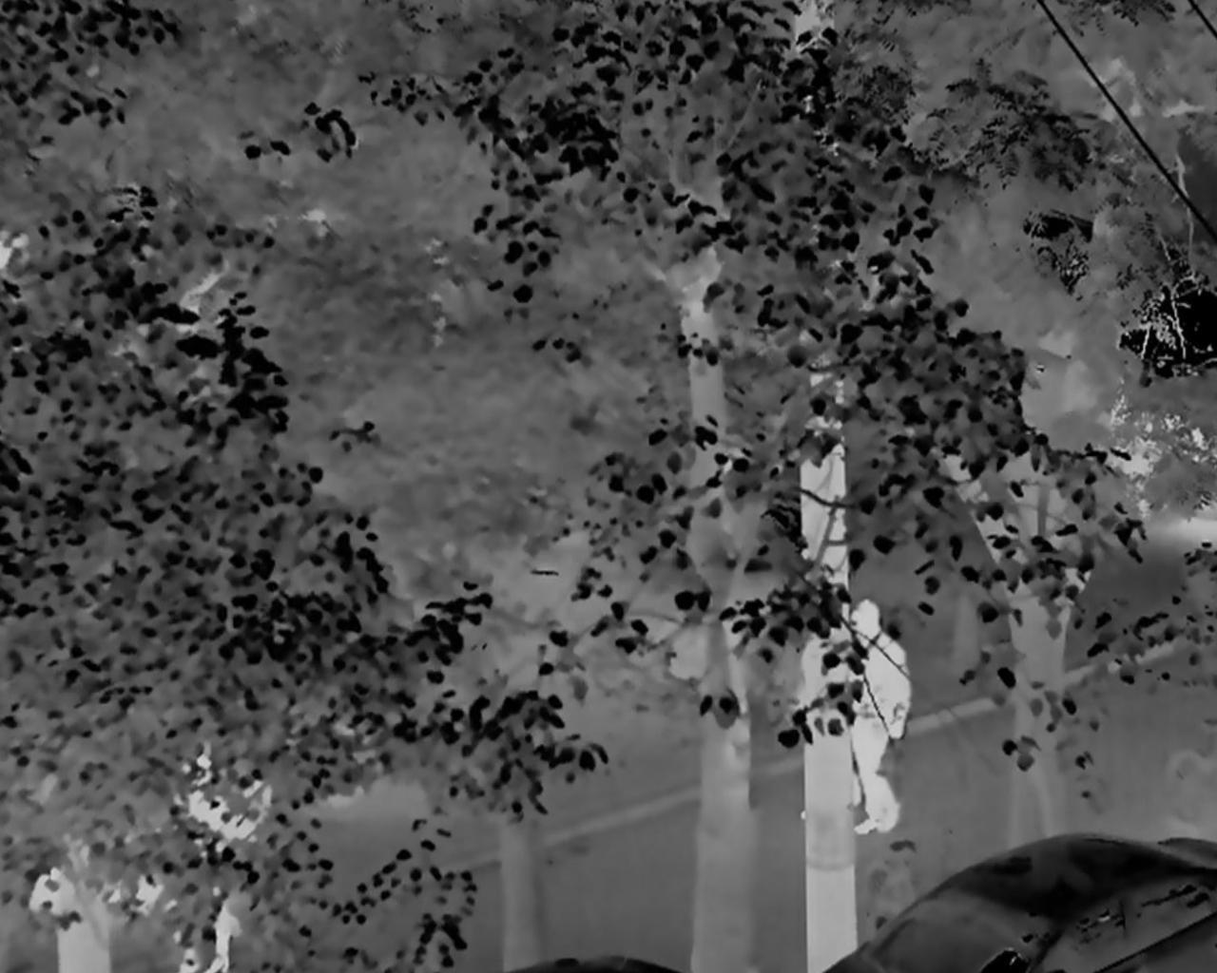person: (847, 601, 905, 839)
